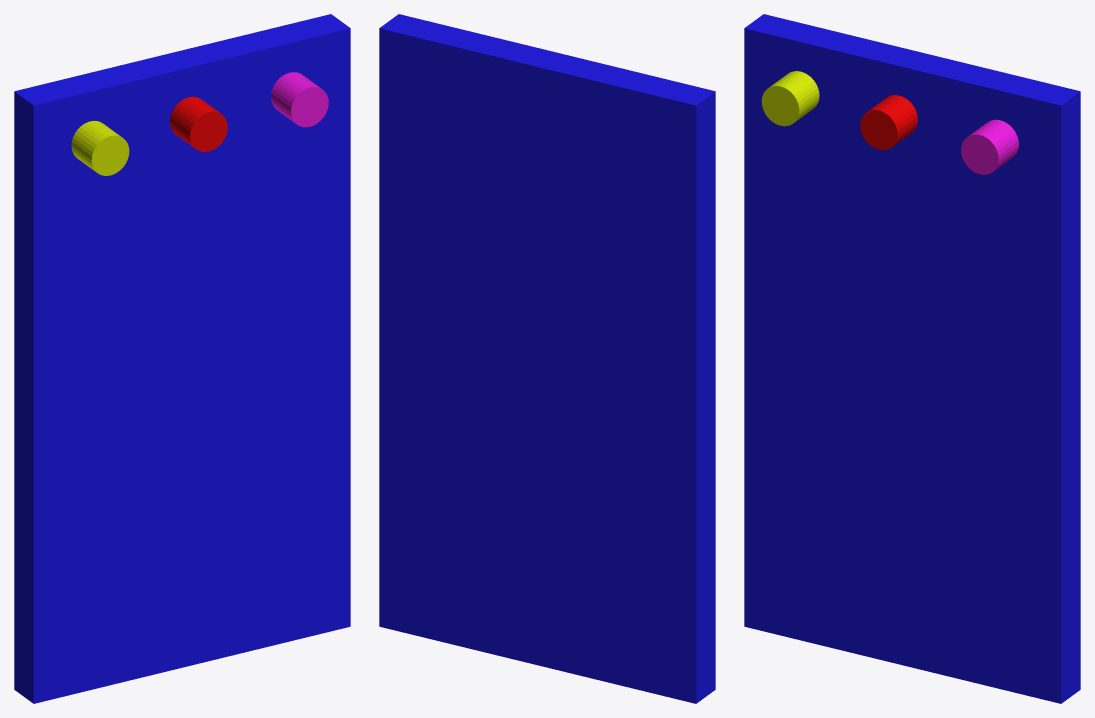
The model's file is cubeDraco.gltf.
The picture shows the model from 3 angles, left to right: view 1: azimuth 30°, elevation 25°; view 2: azimuth 150°, elevation 25°; view 3: azimuth 330°, elevation 25°; orthographic projection.
Visible parts, largest first — view 1: polotno, gem_c3, gem_c1, gem_c2; view 2: polotno; view 3: polotno, gem_c1, gem_c2, gem_c3.
Part boxes in pixels (x1=…): polotno: x1=14, y1=14, x2=350, y2=703; gem_c3: x1=271, y1=72, x2=328, y2=127; gem_c1: x1=71, y1=120, x2=129, y2=175; gem_c2: x1=170, y1=96, x2=227, y2=151; polotno: x1=379, y1=14, x2=715, y2=703; polotno: x1=744, y1=14, x2=1080, y2=703; gem_c1: x1=761, y1=71, x2=819, y2=126; gem_c2: x1=860, y1=95, x2=917, y2=150; gem_c3: x1=961, y1=119, x2=1018, y2=174.
Bounding box in the file's own units: 24.29 × 43.82 × 5.29.
